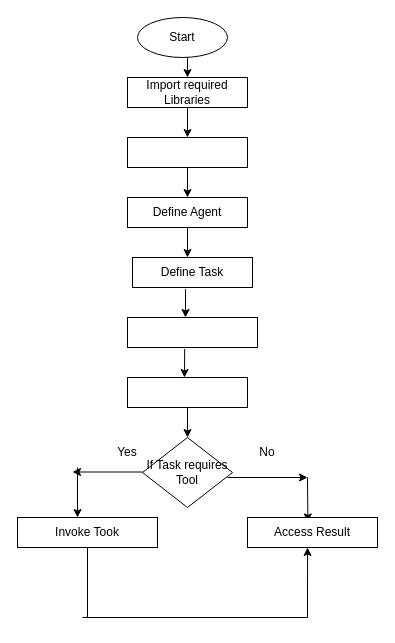
The diagram is 395 pixels wide and 643 high, and some of its shapes have lost their labels. The centre of each missing label's shape, as x and y in pixels:
design custom tools for each operation: the point at 187,152
Kickoff crew: the point at 187,392
Make Crew: the point at 192,332
